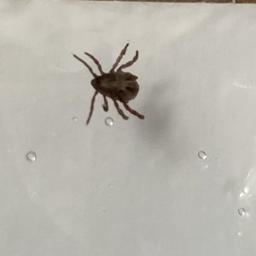Rhipicephalus sanguineus: (70, 43, 148, 126)
